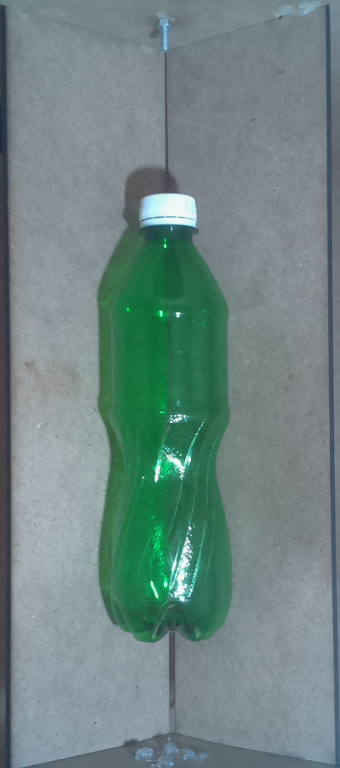Bouteille_0.5L: (94, 183, 239, 647)
